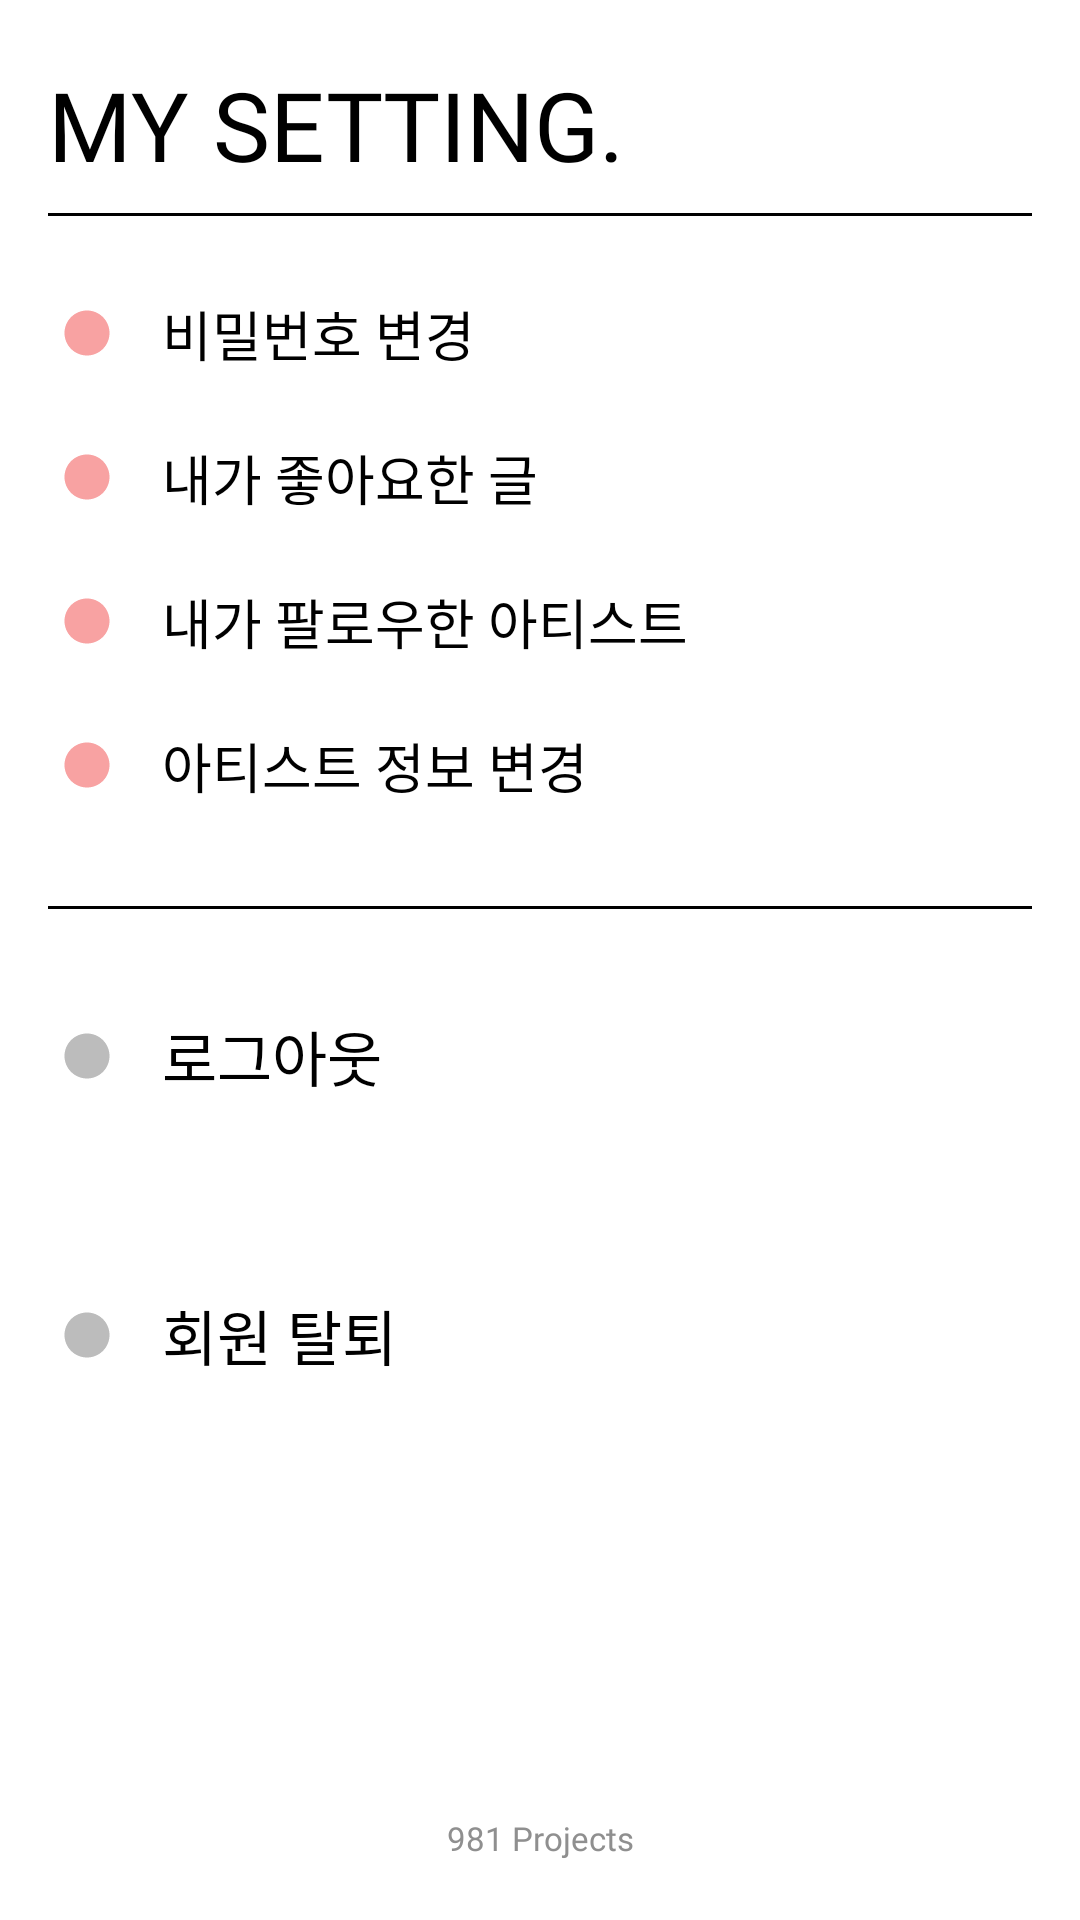

Where icons sit on this 1080px×1920px app screen, as (x1, y1, x2, y2):
dot: (64, 310, 110, 356), (64, 454, 110, 500), (64, 598, 110, 644), (64, 742, 110, 788), (64, 1033, 110, 1079), (64, 1312, 110, 1358)
